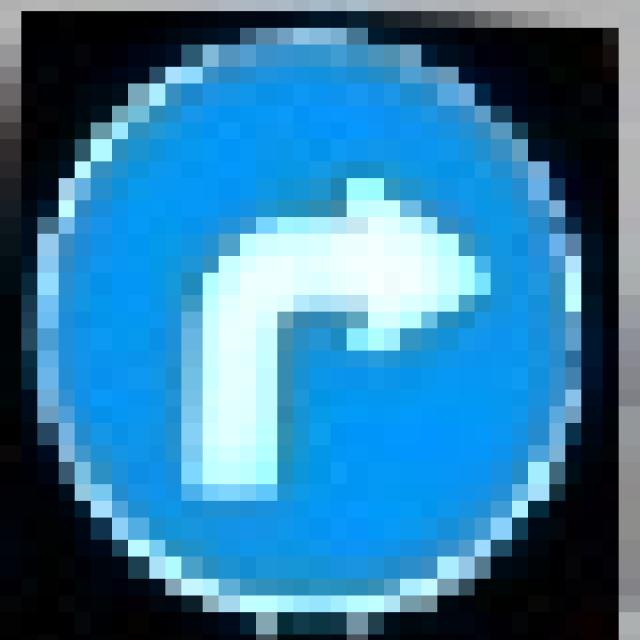right: (138, 156, 502, 513)
